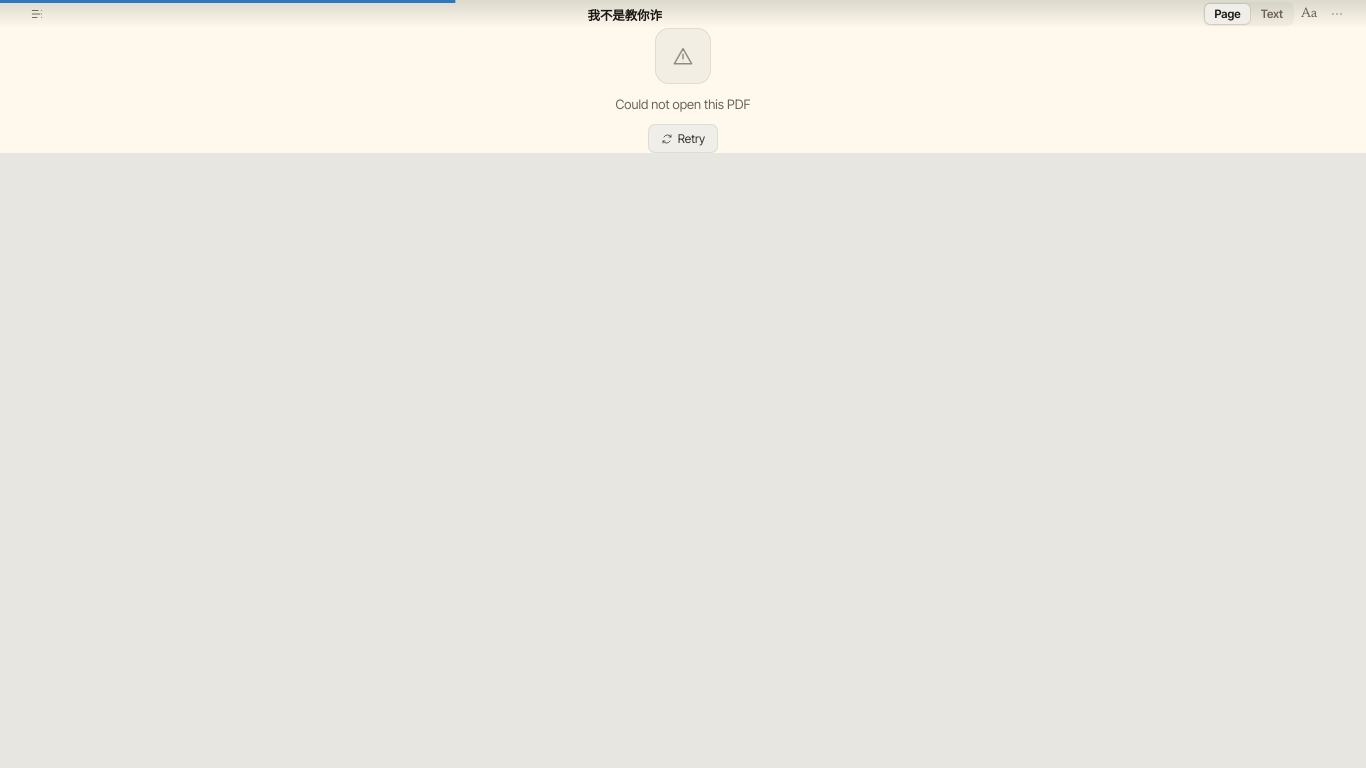
it: the PDF screen › shows the document's own outline as its contents, and moves by page
Click the button named "Contents".
click(37, 14)  # box [24,1,50,27]
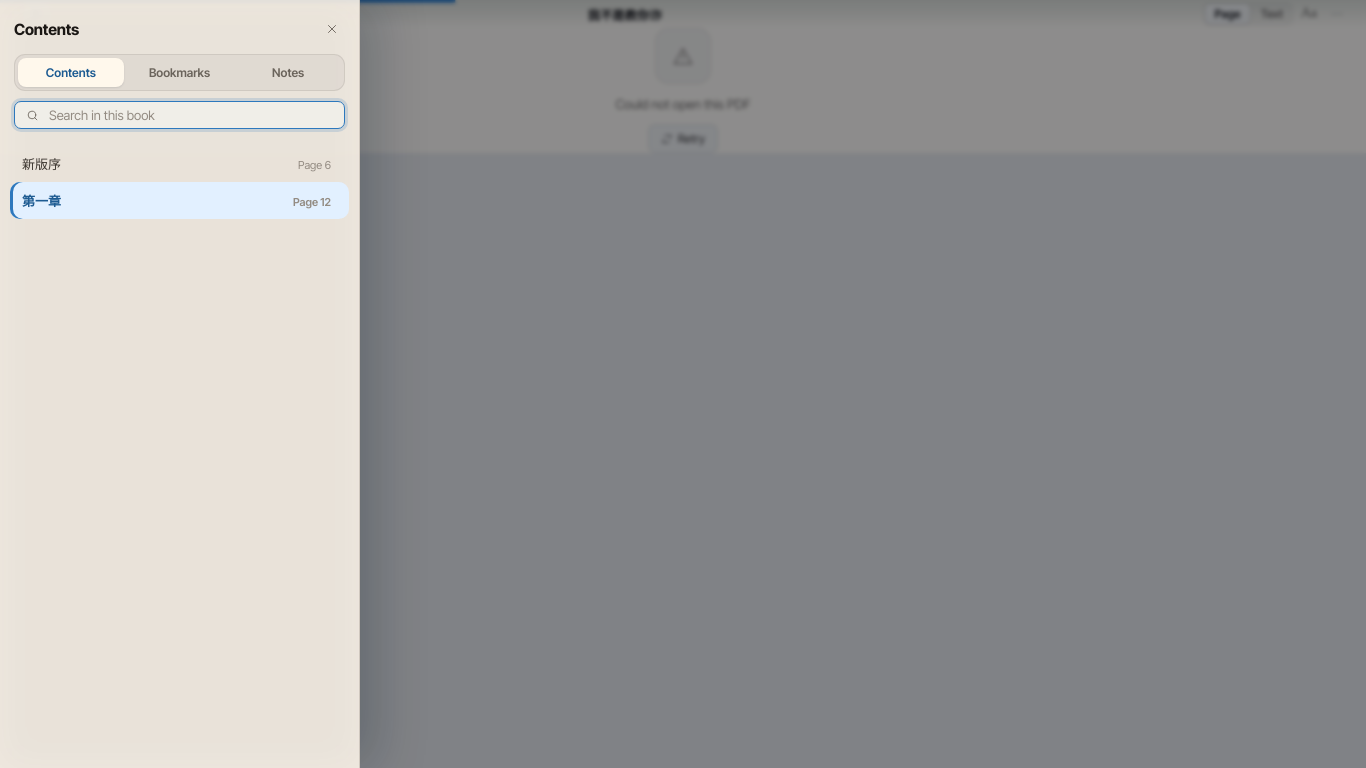
Now the elements with class "toc-item" read "新版序Page 6", "第一章Page 12", in this order, box [10,145,349,182]; [10,182,349,219]
